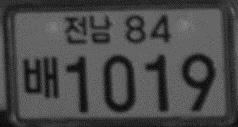0: (101, 53, 136, 113)
1: (143, 53, 170, 112), (64, 54, 90, 113)
4: (149, 13, 172, 44)
8: (125, 14, 145, 43)
9: (180, 51, 217, 113)
배: (22, 54, 59, 100)
전남_H: (63, 12, 113, 45)
